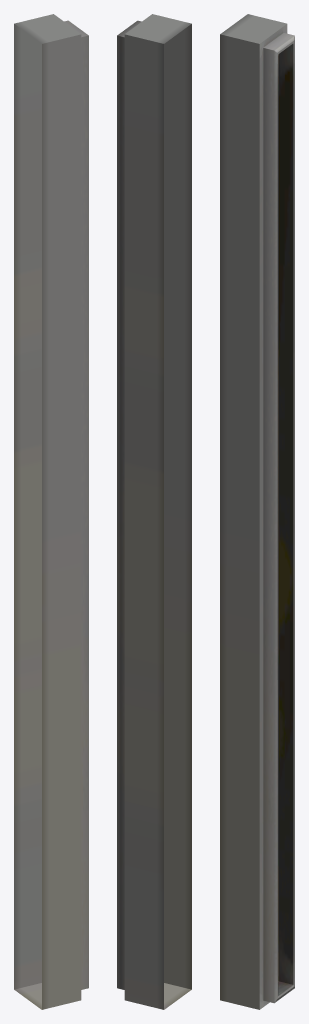
The model's file is props_gameplay_door_grate003_floorplate.glb.
The picture shows the model from 3 angles, left to right: view 1: azimuth 30°, elevation 25°; view 2: azimuth 150°, elevation 25°; view 3: azimuth 330°, elevation 25°; orthographic projection.
Parts seen in each view (by area): view 1: models/props_gameplay/door_grate003_floorplate; view 2: models/props_gameplay/door_grate003_floorplate; view 3: models/props_gameplay/door_grate003_floorplate.
Boxes of the visible parts, left/top/right/bottom form: models/props_gameplay/door_grate003_floorplate: left=14, top=14, right=88, bottom=1009; models/props_gameplay/door_grate003_floorplate: left=117, top=14, right=191, bottom=1009; models/props_gameplay/door_grate003_floorplate: left=220, top=14, right=294, bottom=1009.
Bounding box in the file's own units: 10.78 × 192 × 10.01.
Materials: 1 (1 with a texture image).
